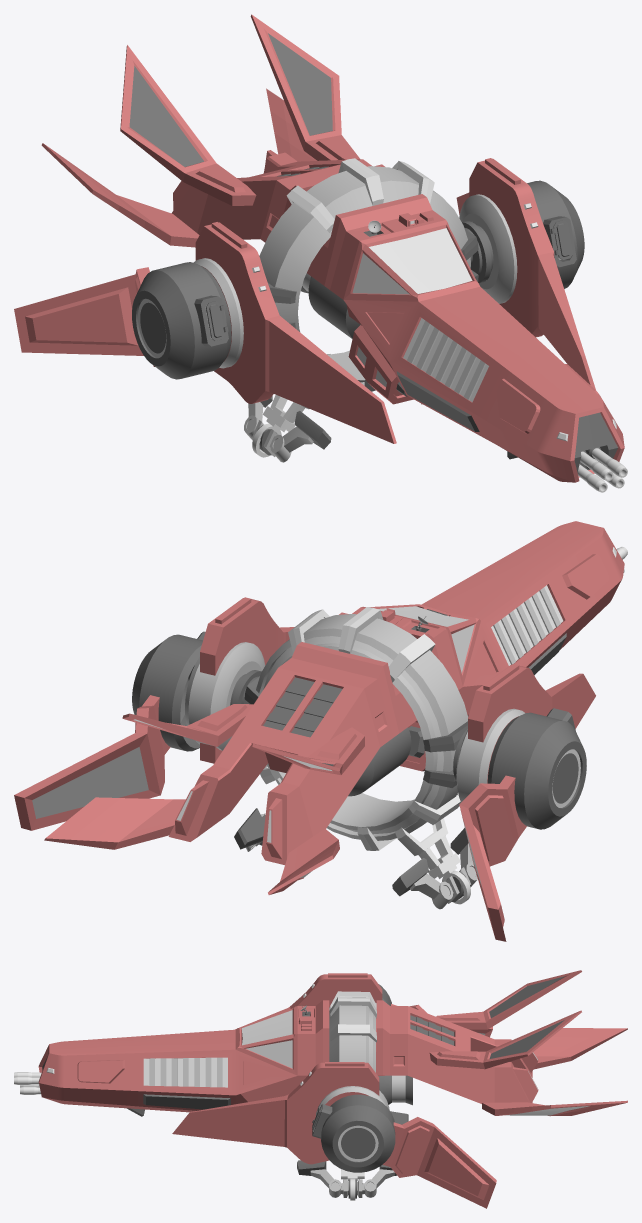
Rendered from starfighter.fbx.
3 views of the same model, one above another, from view 1: azimuth 30°, elevation 25°; view 2: azimuth 150°, elevation 25°; view 3: azimuth 270°, elevation 25° (orthographic). The views are drawn at different scales.
Parts seen in each view (by area): view 1: Chassis, RocketCannon.001, Wings.001, Wings, Frame, RocketCannon, Foot.R, WingConnectors, Leg.R, FrontGun1; view 2: Chassis, Frame, RocketCannon.001, RocketCannon, Wings, Wings.001, Foot.R, Leg.R, WingConnectors.002, Foot.L, WingConnectors; view 3: Chassis, RocketCannon, Wings, Frame, Wings.001, Foot.L.
Boxes of the visible parts, x1=… form: Chassis: x1=41, y1=14, x2=624, y2=482; RocketCannon.001: x1=14, y1=262, x2=231, y2=379; Wings.001: x1=193, y1=222, x2=396, y2=443; Wings: x1=459, y1=158, x2=595, y2=389; Frame: x1=259, y1=158, x2=470, y2=391; RocketCannon: x1=456, y1=180, x2=584, y2=288; Foot.R: x1=244, y1=396, x2=331, y2=462; WingConnectors: x1=461, y1=221, x2=493, y2=283; Leg.R: x1=252, y1=395, x2=309, y2=457; FrontGun1: x1=580, y1=448, x2=627, y2=481; Chassis: x1=44, y1=521, x2=624, y2=894; Frame: x1=256, y1=607, x2=467, y2=850; RocketCannon.001: x1=459, y1=708, x2=586, y2=941; RocketCannon: x1=14, y1=631, x2=205, y2=830; Wings: x1=185, y1=597, x2=294, y2=763; Wings.001: x1=456, y1=664, x2=595, y2=802; Foot.R: x1=392, y1=828, x2=477, y2=909; Leg.R: x1=394, y1=818, x2=470, y2=904; WingConnectors.002: x1=423, y1=715, x2=468, y2=787; Foot.L: x1=234, y1=808, x2=264, y2=851; WingConnectors: x1=230, y1=670, x2=261, y2=705; Chassis: x1=38, y1=970, x2=627, y2=1116; RocketCannon: x1=312, y1=1094, x2=496, y2=1208; Wings: x1=172, y1=1062, x2=389, y2=1164; Frame: x1=329, y1=991, x2=376, y2=1072; Wings.001: x1=235, y1=973, x2=382, y2=1029; Foot.L: x1=297, y1=1160, x2=396, y2=1198.
Bounding box in the file's own units: 1120 × 612 × 1851.
